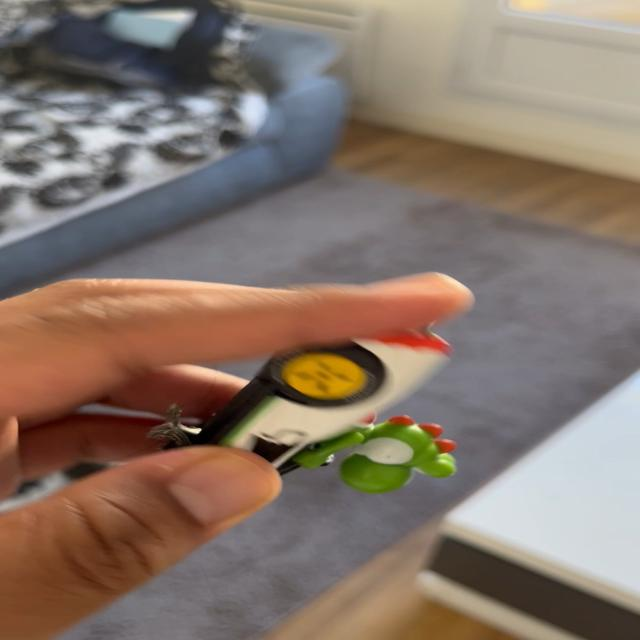yoshi: (149, 314, 481, 531)
